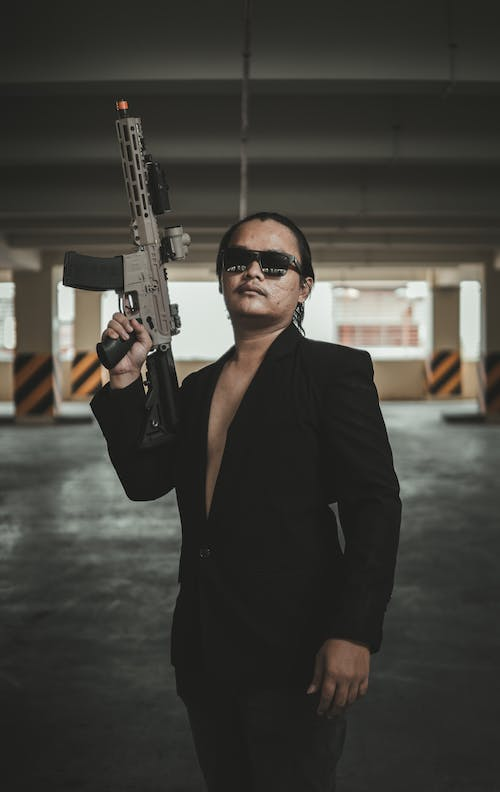gun: (59, 93, 190, 451)
